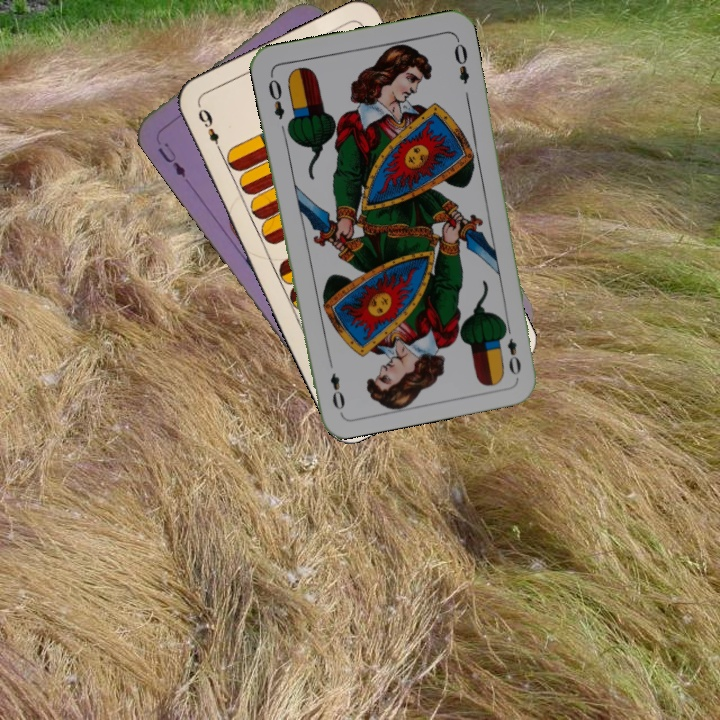E9: (194, 104, 226, 157)
EO: (498, 320, 524, 378), (264, 70, 287, 122)
EU: (153, 138, 188, 180)
